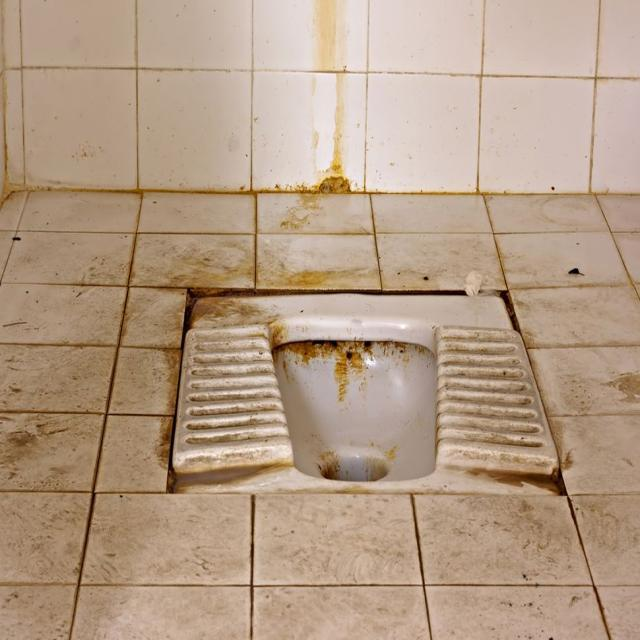dirty_floor: (1, 188, 638, 637), (166, 287, 562, 497), (273, 337, 434, 402)
